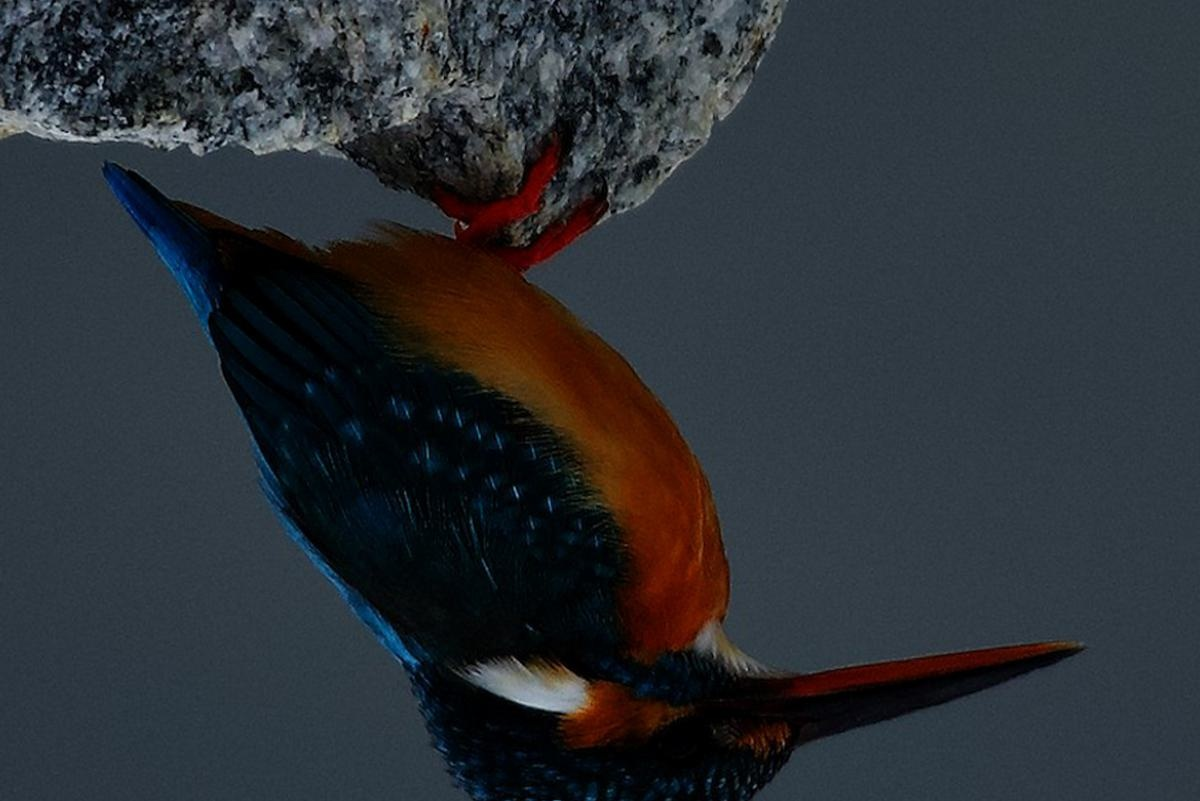kingfisher: (93, 136, 1098, 797)
